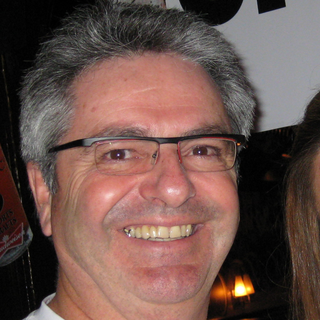eye: (98, 144, 142, 167), (183, 141, 224, 164)
